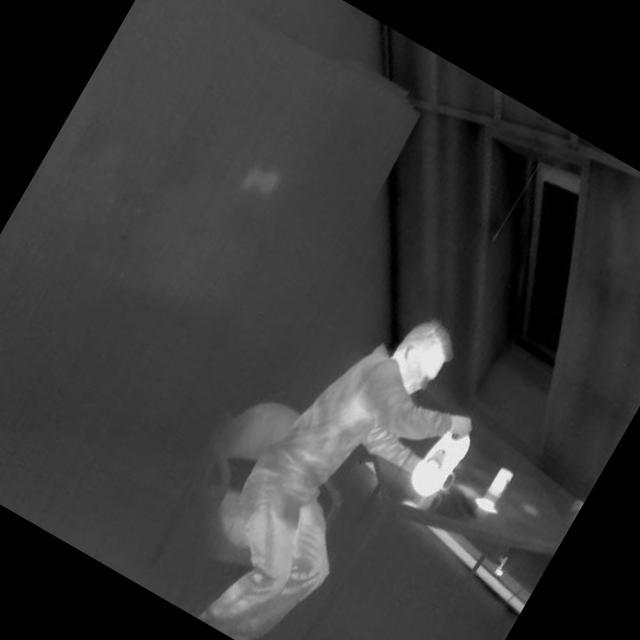person: (143, 251, 517, 640)
